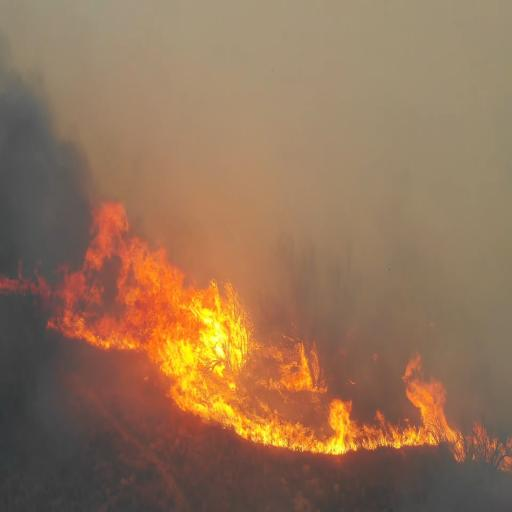fire: (99, 214, 245, 374), (175, 286, 242, 433), (197, 294, 256, 402), (402, 354, 460, 452), (247, 389, 331, 449), (321, 395, 401, 454), (272, 332, 324, 397)
smoke: (0, 0, 70, 257)
